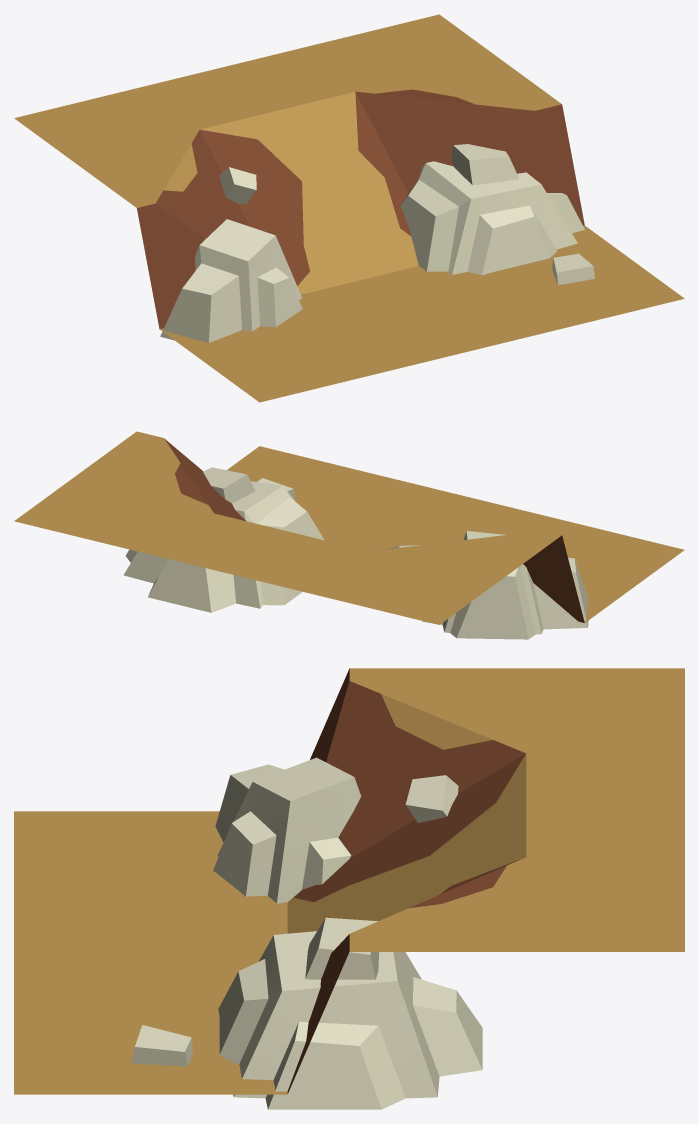
File: SA_Sand_HillRamp.fbx
The picture shows the model from 3 angles, top to bottom: view 1: azimuth 30°, elevation 25°; view 2: azimuth 150°, elevation 25°; view 3: azimuth 270°, elevation 25°; orthographic projection. The views are drawn at different scales.
Parts seen in each view (by area): view 1: SA_Sand_HillRamp; view 2: SA_Sand_HillRamp; view 3: SA_Sand_HillRamp.
Part boxes in pixels (x1,y1,x2,y2): SA_Sand_HillRamp: [14, 14, 684, 402]; SA_Sand_HillRamp: [14, 431, 684, 639]; SA_Sand_HillRamp: [14, 668, 684, 1109].
Size of the model in its own units: 15.04 by 3.9 by 15.
